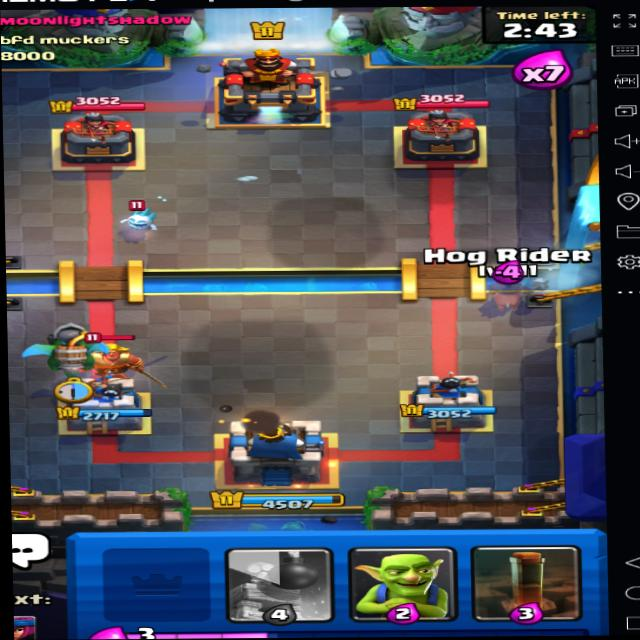Goldenknight: (68, 328, 154, 382)
Icespirit: (115, 196, 179, 237)
